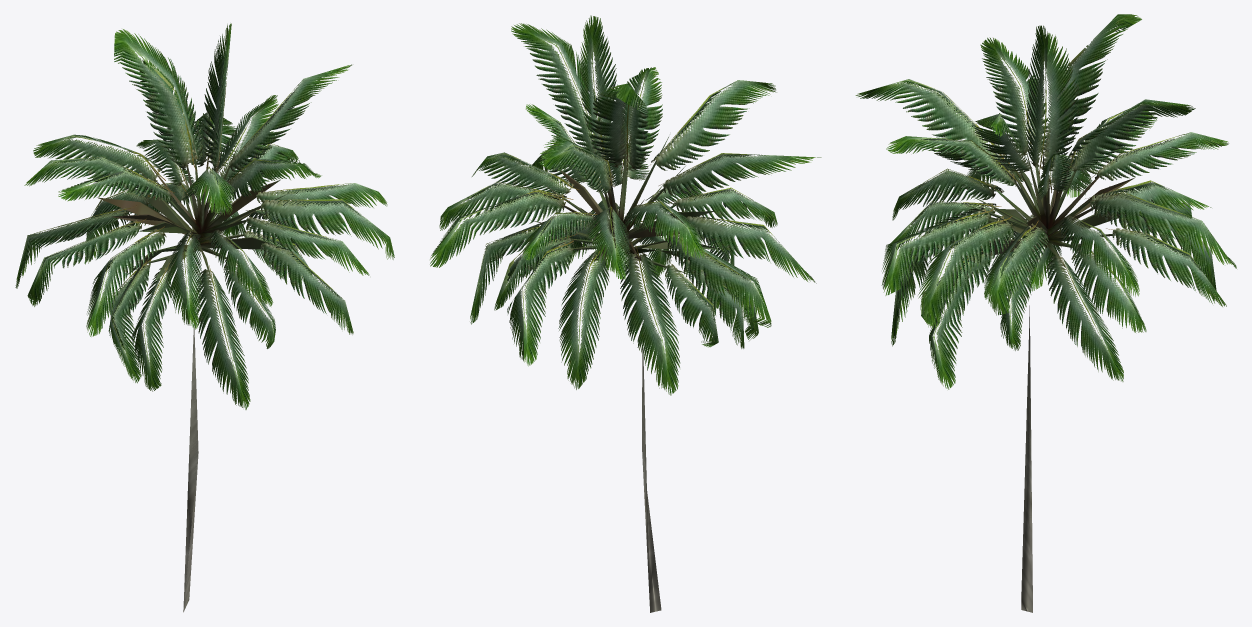
The model's file is palm-small.lod0.glb.
The picture shows the model from 3 angles, left to right: view 1: azimuth 30°, elevation 25°; view 2: azimuth 150°, elevation 25°; view 3: azimuth 270°, elevation 25°; orthographic projection. The views are drawn at different scales.
Parts seen in each view (by area): view 1: SM_MZRa_Palm_B082_MI_MZRa_Palm_B08a_0, SM_MZRa_Palm_B082_MI_MZRa_Palm_B08b_0; view 2: SM_MZRa_Palm_B082_MI_MZRa_Palm_B08a_0, SM_MZRa_Palm_B082_MI_MZRa_Palm_B08b_0; view 3: SM_MZRa_Palm_B082_MI_MZRa_Palm_B08a_0, SM_MZRa_Palm_B082_MI_MZRa_Palm_B08b_0.
Part boxes in pixels (x1,y1,x2,y2): SM_MZRa_Palm_B082_MI_MZRa_Palm_B08a_0: (15,23,394,409); SM_MZRa_Palm_B082_MI_MZRa_Palm_B08b_0: (97,135,289,612); SM_MZRa_Palm_B082_MI_MZRa_Palm_B08a_0: (430,15,821,395); SM_MZRa_Palm_B082_MI_MZRa_Palm_B08b_0: (529,134,718,612); SM_MZRa_Palm_B082_MI_MZRa_Palm_B08a_0: (855,14,1236,389); SM_MZRa_Palm_B082_MI_MZRa_Palm_B08b_0: (949,120,1142,612).
Size of the model in its own units: 3.73 by 6 by 3.39.
Materials: 2 (2 with a texture image).
